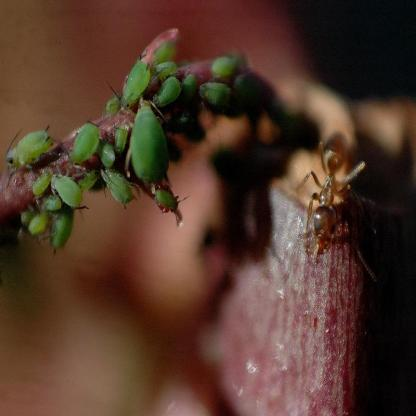aphid: (130, 96, 172, 183), (0, 124, 54, 175), (119, 56, 150, 106), (50, 168, 83, 209), (104, 166, 135, 204), (71, 124, 101, 163), (49, 207, 74, 252), (200, 76, 229, 112), (154, 74, 179, 114), (154, 184, 181, 214), (153, 40, 179, 67), (213, 54, 237, 80), (26, 210, 51, 234), (79, 164, 100, 192), (176, 107, 196, 136), (30, 168, 52, 194), (113, 120, 130, 153), (104, 93, 125, 117), (182, 72, 198, 100), (41, 194, 63, 214), (154, 58, 178, 76), (100, 142, 115, 168), (19, 207, 40, 223)
